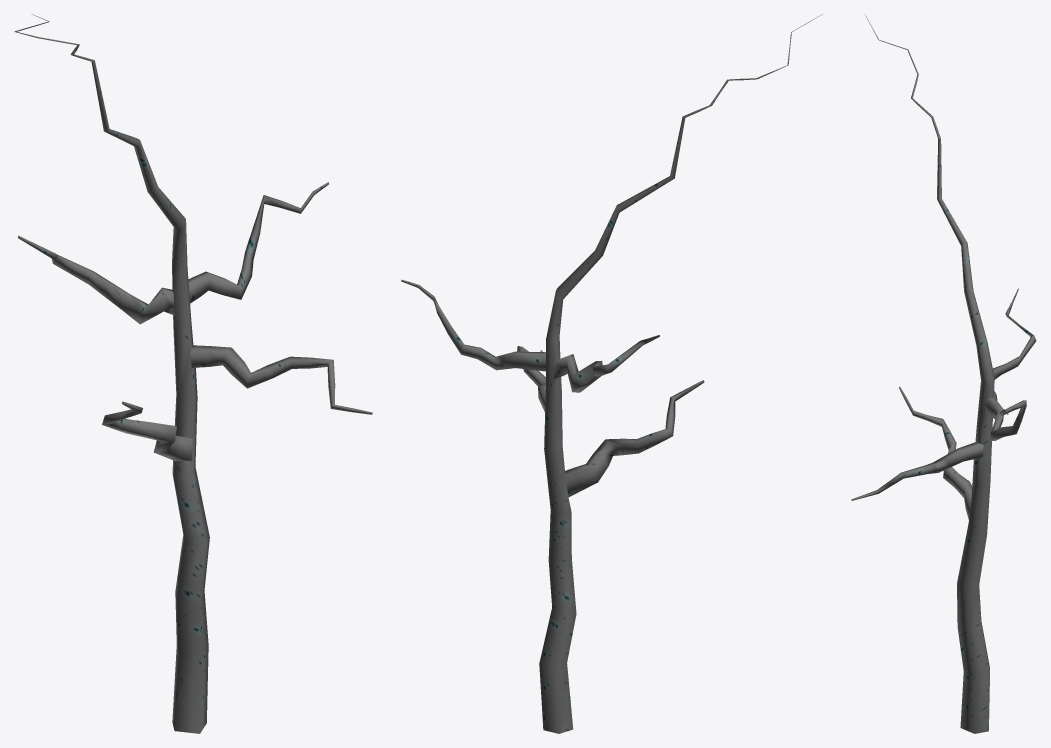
The model's file is Tree_B.fbx.
3 renders of one model, left to right at view 1: azimuth 30°, elevation 25°; view 2: azimuth 150°, elevation 25°; view 3: azimuth 270°, elevation 25°, orthographic. The views are drawn at different scales.
Visible parts, largest first — view 1: Plane001; view 2: Plane001; view 3: Plane001.
Boxes of the visible parts, x1,y1,x2,y2 form: Plane001: (14,14,372,733); Plane001: (401,14,822,733); Plane001: (851,15,1036,733).
Bounding box in the file's own units: 48.49 × 97.36 × 26.
Materials: 1 (1 with a texture image).
